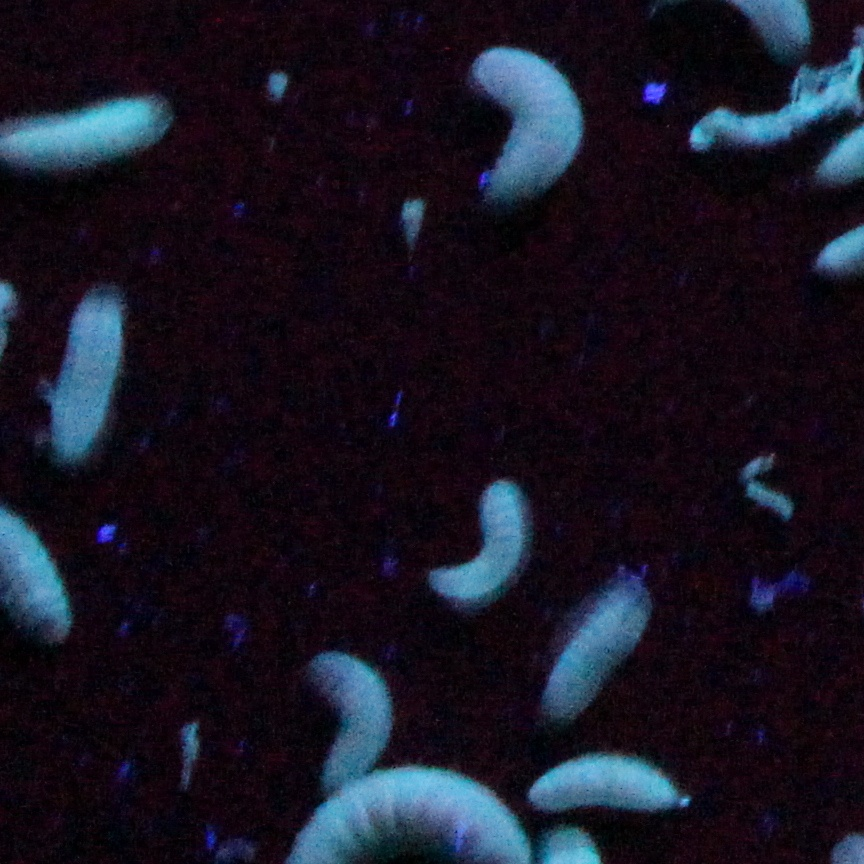larve: (468, 49, 589, 201), (41, 287, 125, 453), (2, 93, 177, 172), (550, 574, 643, 716), (308, 649, 391, 793), (437, 476, 533, 597), (527, 757, 689, 807)
